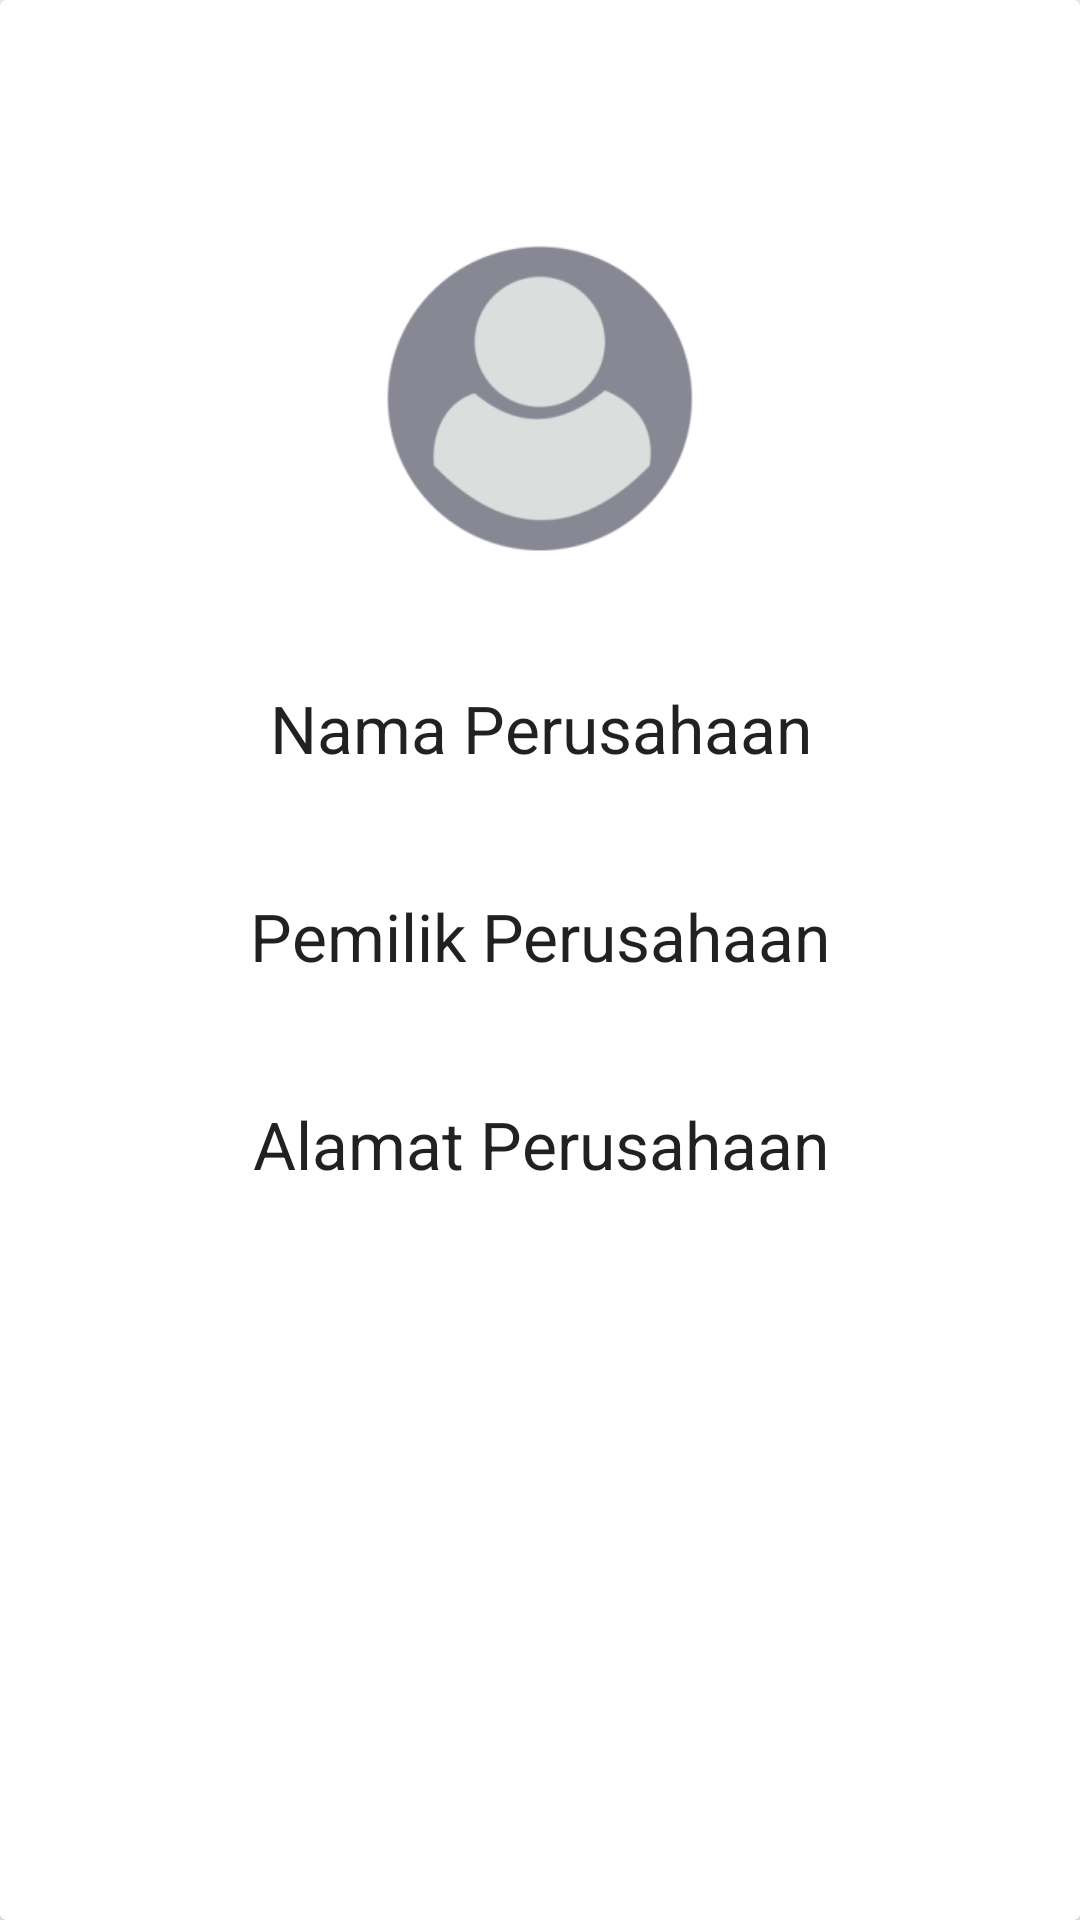

Screen size 1080px x 1920px. Icon name, then its box in pixels as region(x1, y1, x2, y2):
user: region(387, 246, 693, 551)
